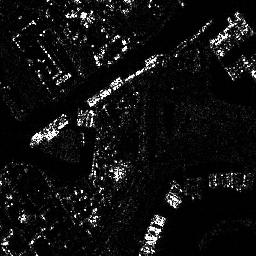ship: (29, 111, 66, 147)
